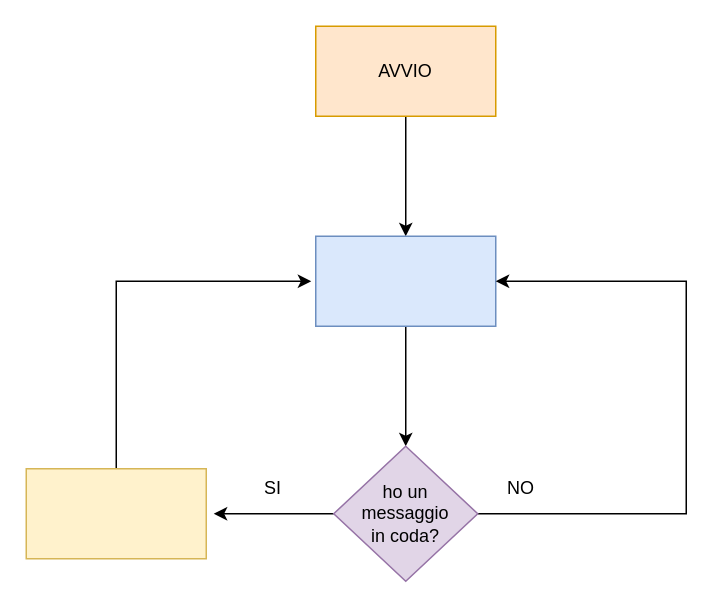
Some shapes in this 725 by 608 pixel diagram are drawn without their labels. Here are the shapes that lost their labels. From the top down, the centre of each, then its label:
(405,280): INVIO MISURAZIONI
(115,513): ANALIZZA ED ESEGUI
